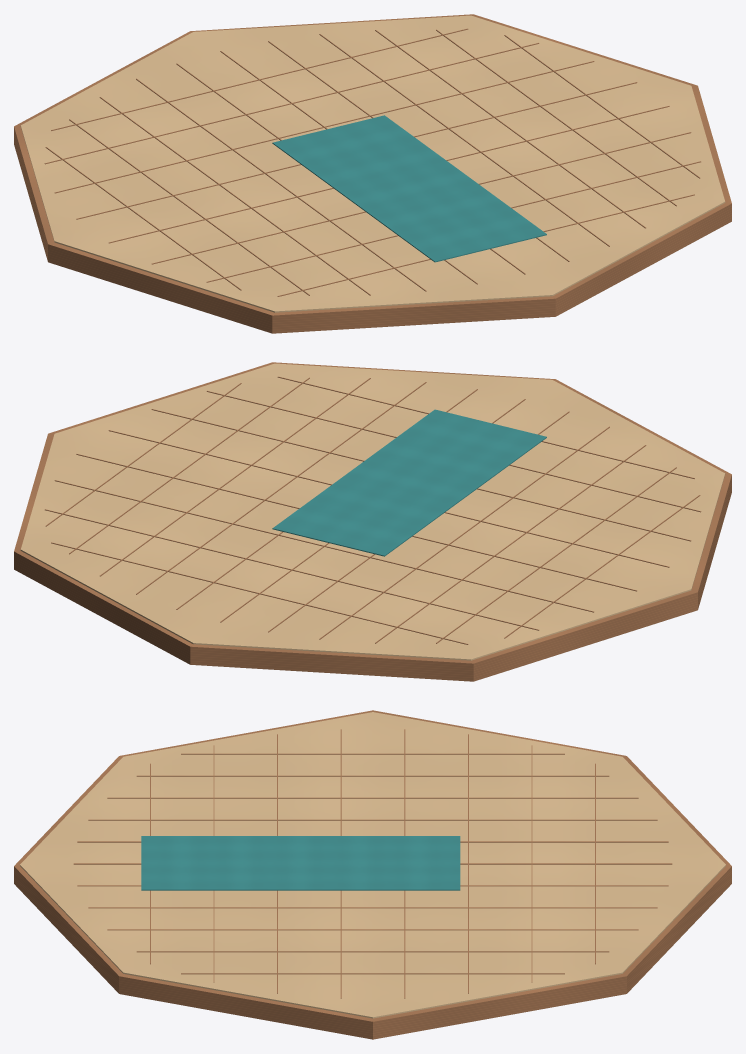
Rendered from atlas100-s093-a07.glb.
3 views of the same model, one above another, from view 1: azimuth 30°, elevation 25°; view 2: azimuth 150°, elevation 25°; view 3: azimuth 270°, elevation 25° (orthographic).
Visible parts, largest first — view 1: atlas100-s093-a07:part-001, atlas100-s093-a07:part-000, atlas100-s093-a07:part-021, atlas100-s093-a07:part-015, atlas100-s093-a07:part-014, atlas100-s093-a07:part-016, atlas100-s093-a07:part-017, atlas100-s093-a07:part-018, atlas100-s093-a07:part-013, atlas100-s093-a07:part-019, atlas100-s093-a07:part-009, atlas100-s093-a07:part-005 (+3 smaller); view 2: atlas100-s093-a07:part-001, atlas100-s093-a07:part-000, atlas100-s093-a07:part-021, atlas100-s093-a07:part-015, atlas100-s093-a07:part-014, atlas100-s093-a07:part-017, atlas100-s093-a07:part-016, atlas100-s093-a07:part-018, atlas100-s093-a07:part-013, atlas100-s093-a07:part-019, atlas100-s093-a07:part-009, atlas100-s093-a07:part-005 (+3 smaller); view 3: atlas100-s093-a07:part-001, atlas100-s093-a07:part-000, atlas100-s093-a07:part-021, atlas100-s093-a07:part-005, atlas100-s093-a07:part-009, atlas100-s093-a07:part-004, atlas100-s093-a07:part-010, atlas100-s093-a07:part-003, atlas100-s093-a07:part-011, atlas100-s093-a07:part-002, atlas100-s093-a07:part-012, atlas100-s093-a07:part-007 (+2 smaller).
Part boxes in pixels (x1,y1,x2,y2): atlas100-s093-a07:part-001: (20, 15, 725, 312); atlas100-s093-a07:part-000: (14, 14, 731, 333); atlas100-s093-a07:part-021: (272, 115, 546, 262); atlas100-s093-a07:part-015: (54, 61, 594, 193); atlas100-s093-a07:part-014: (44, 43, 539, 164); atlas100-s093-a07:part-016: (76, 82, 637, 219); atlas100-s093-a07:part-017: (109, 106, 669, 243); atlas100-s093-a07:part-018: (152, 132, 691, 264); atlas100-s093-a07:part-013: (51, 28, 468, 130); atlas100-s093-a07:part-019: (206, 161, 700, 282); atlas100-s093-a07:part-009: (319, 34, 609, 246); atlas100-s093-a07:part-005: (136, 78, 426, 291); atlas100-s093-a07:part-001: (20, 363, 725, 660); atlas100-s093-a07:part-000: (14, 362, 731, 681); atlas100-s093-a07:part-021: (272, 409, 546, 556); atlas100-s093-a07:part-015: (54, 480, 593, 612); atlas100-s093-a07:part-014: (45, 509, 539, 630); atlas100-s093-a07:part-017: (108, 430, 669, 567); atlas100-s093-a07:part-016: (76, 454, 636, 591); atlas100-s093-a07:part-018: (151, 409, 691, 541); atlas100-s093-a07:part-013: (51, 542, 468, 644); atlas100-s093-a07:part-019: (206, 391, 701, 512); atlas100-s093-a07:part-009: (136, 382, 426, 594); atlas100-s093-a07:part-005: (319, 426, 609, 639); atlas100-s093-a07:part-001: (20, 712, 725, 1018); atlas100-s093-a07:part-000: (14, 710, 731, 1039); atlas100-s093-a07:part-021: (141, 836, 460, 890); atlas100-s093-a07:part-005: (88, 819, 657, 820); atlas100-s093-a07:part-009: (88, 907, 657, 908); atlas100-s093-a07:part-004: (107, 797, 638, 798); atlas100-s093-a07:part-010: (107, 929, 638, 930); atlas100-s093-a07:part-003: (136, 775, 609, 776); atlas100-s093-a07:part-011: (136, 951, 609, 952); atlas100-s093-a07:part-002: (181, 753, 564, 754); atlas100-s093-a07:part-012: (181, 973, 564, 974); atlas100-s093-a07:part-007: (73, 863, 672, 864).
Bounding box in the file's own units: 12.75 × 0.404 × 12.42.
3 materials, 3 textured.
